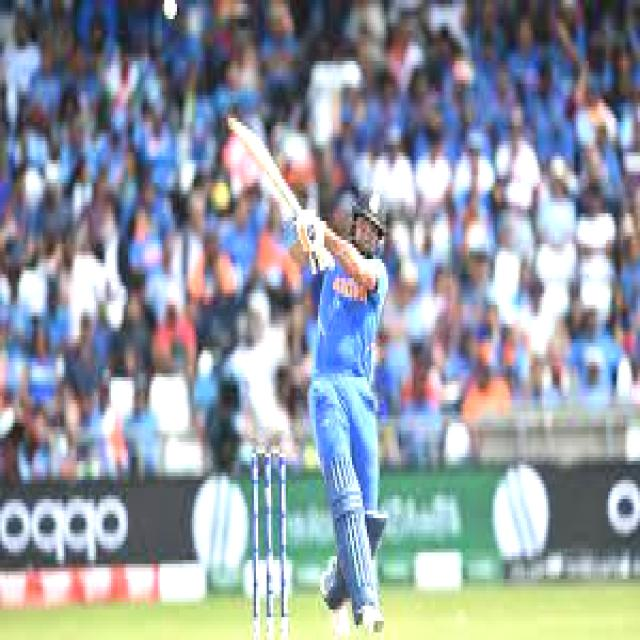toe: (224, 112, 244, 140)
